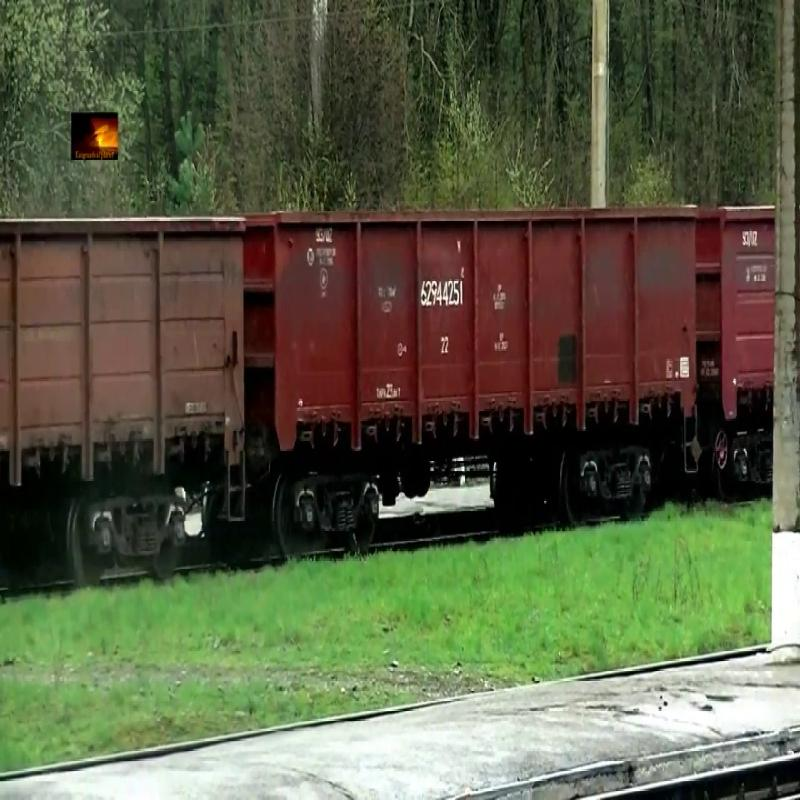train: (247, 204, 695, 455), (1, 216, 247, 492), (696, 209, 781, 422)
